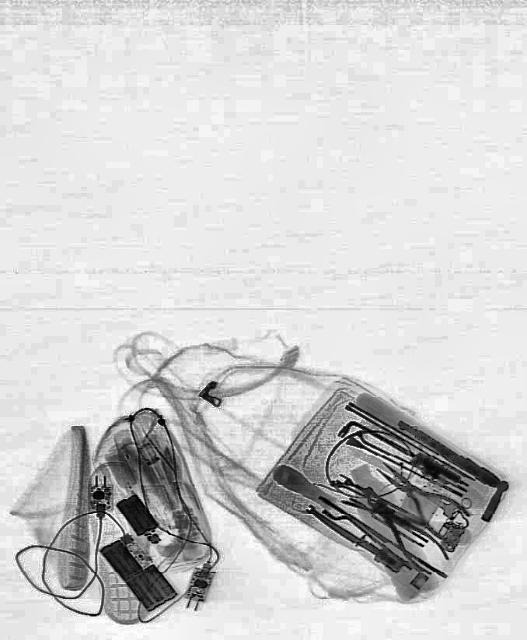Pliers: (366, 449, 472, 547), (366, 491, 452, 584)
